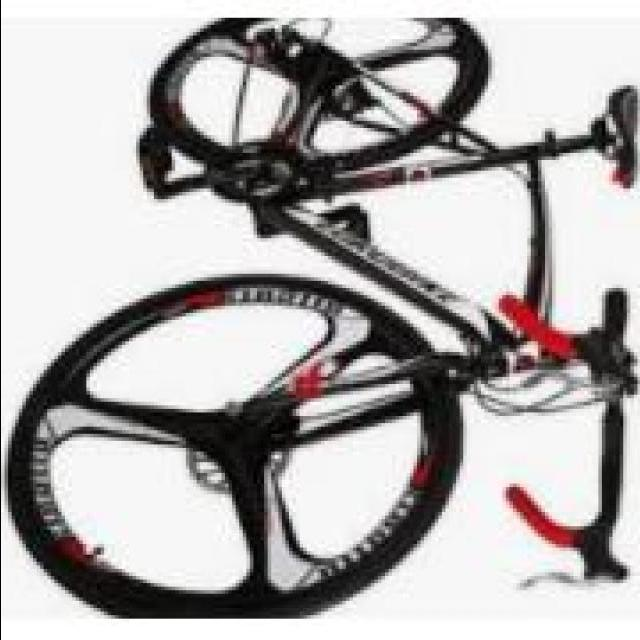bicycle: (26, 15, 640, 616)
